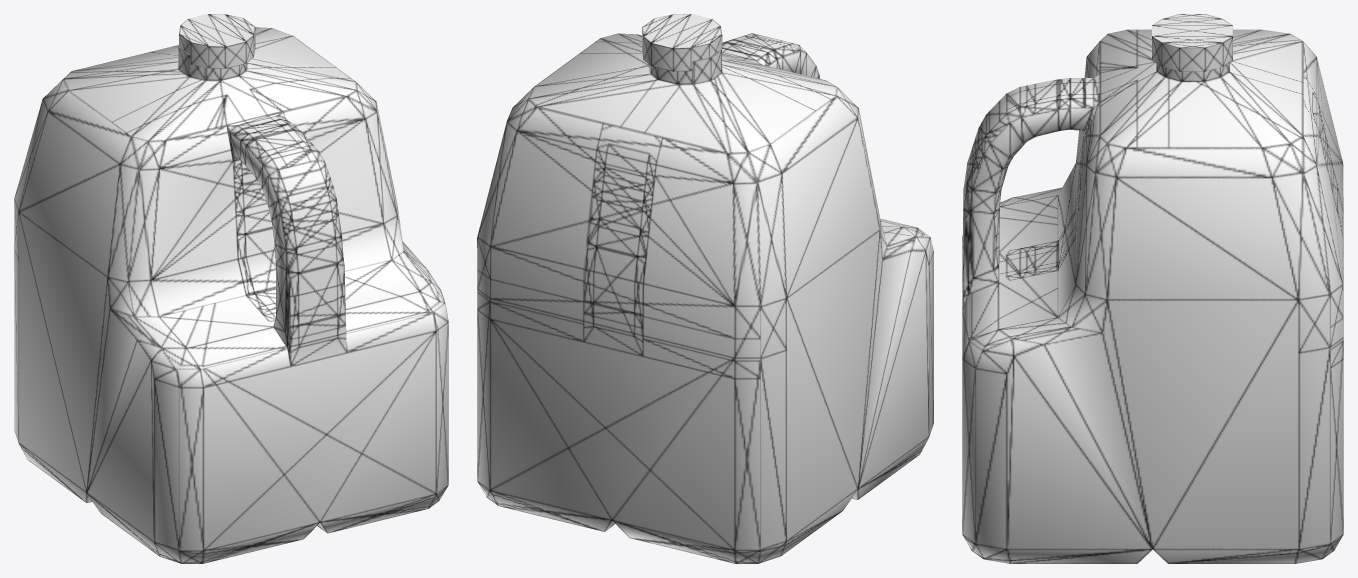
The model's file is objeto.dae.
The picture shows the model from 3 angles, left to right: view 1: azimuth 30°, elevation 25°; view 2: azimuth 150°, elevation 25°; view 3: azimuth 270°, elevation 25°; orthographic projection. The views are drawn at different scales.
Parts seen in each view (by area): view 1: Polygon (×2); view 2: Polygon (×2); view 3: Polygon (×2).
Boxes of the visible parts, <box> form: Polygon (×2): <box>14,14,448,563</box>; Polygon (×2): <box>477,14,933,563</box>; Polygon (×2): <box>962,14,1343,563</box>.
Size of the model in its own units: 18.42 by 26.12 by 19.51.
1 material, 1 textured.
